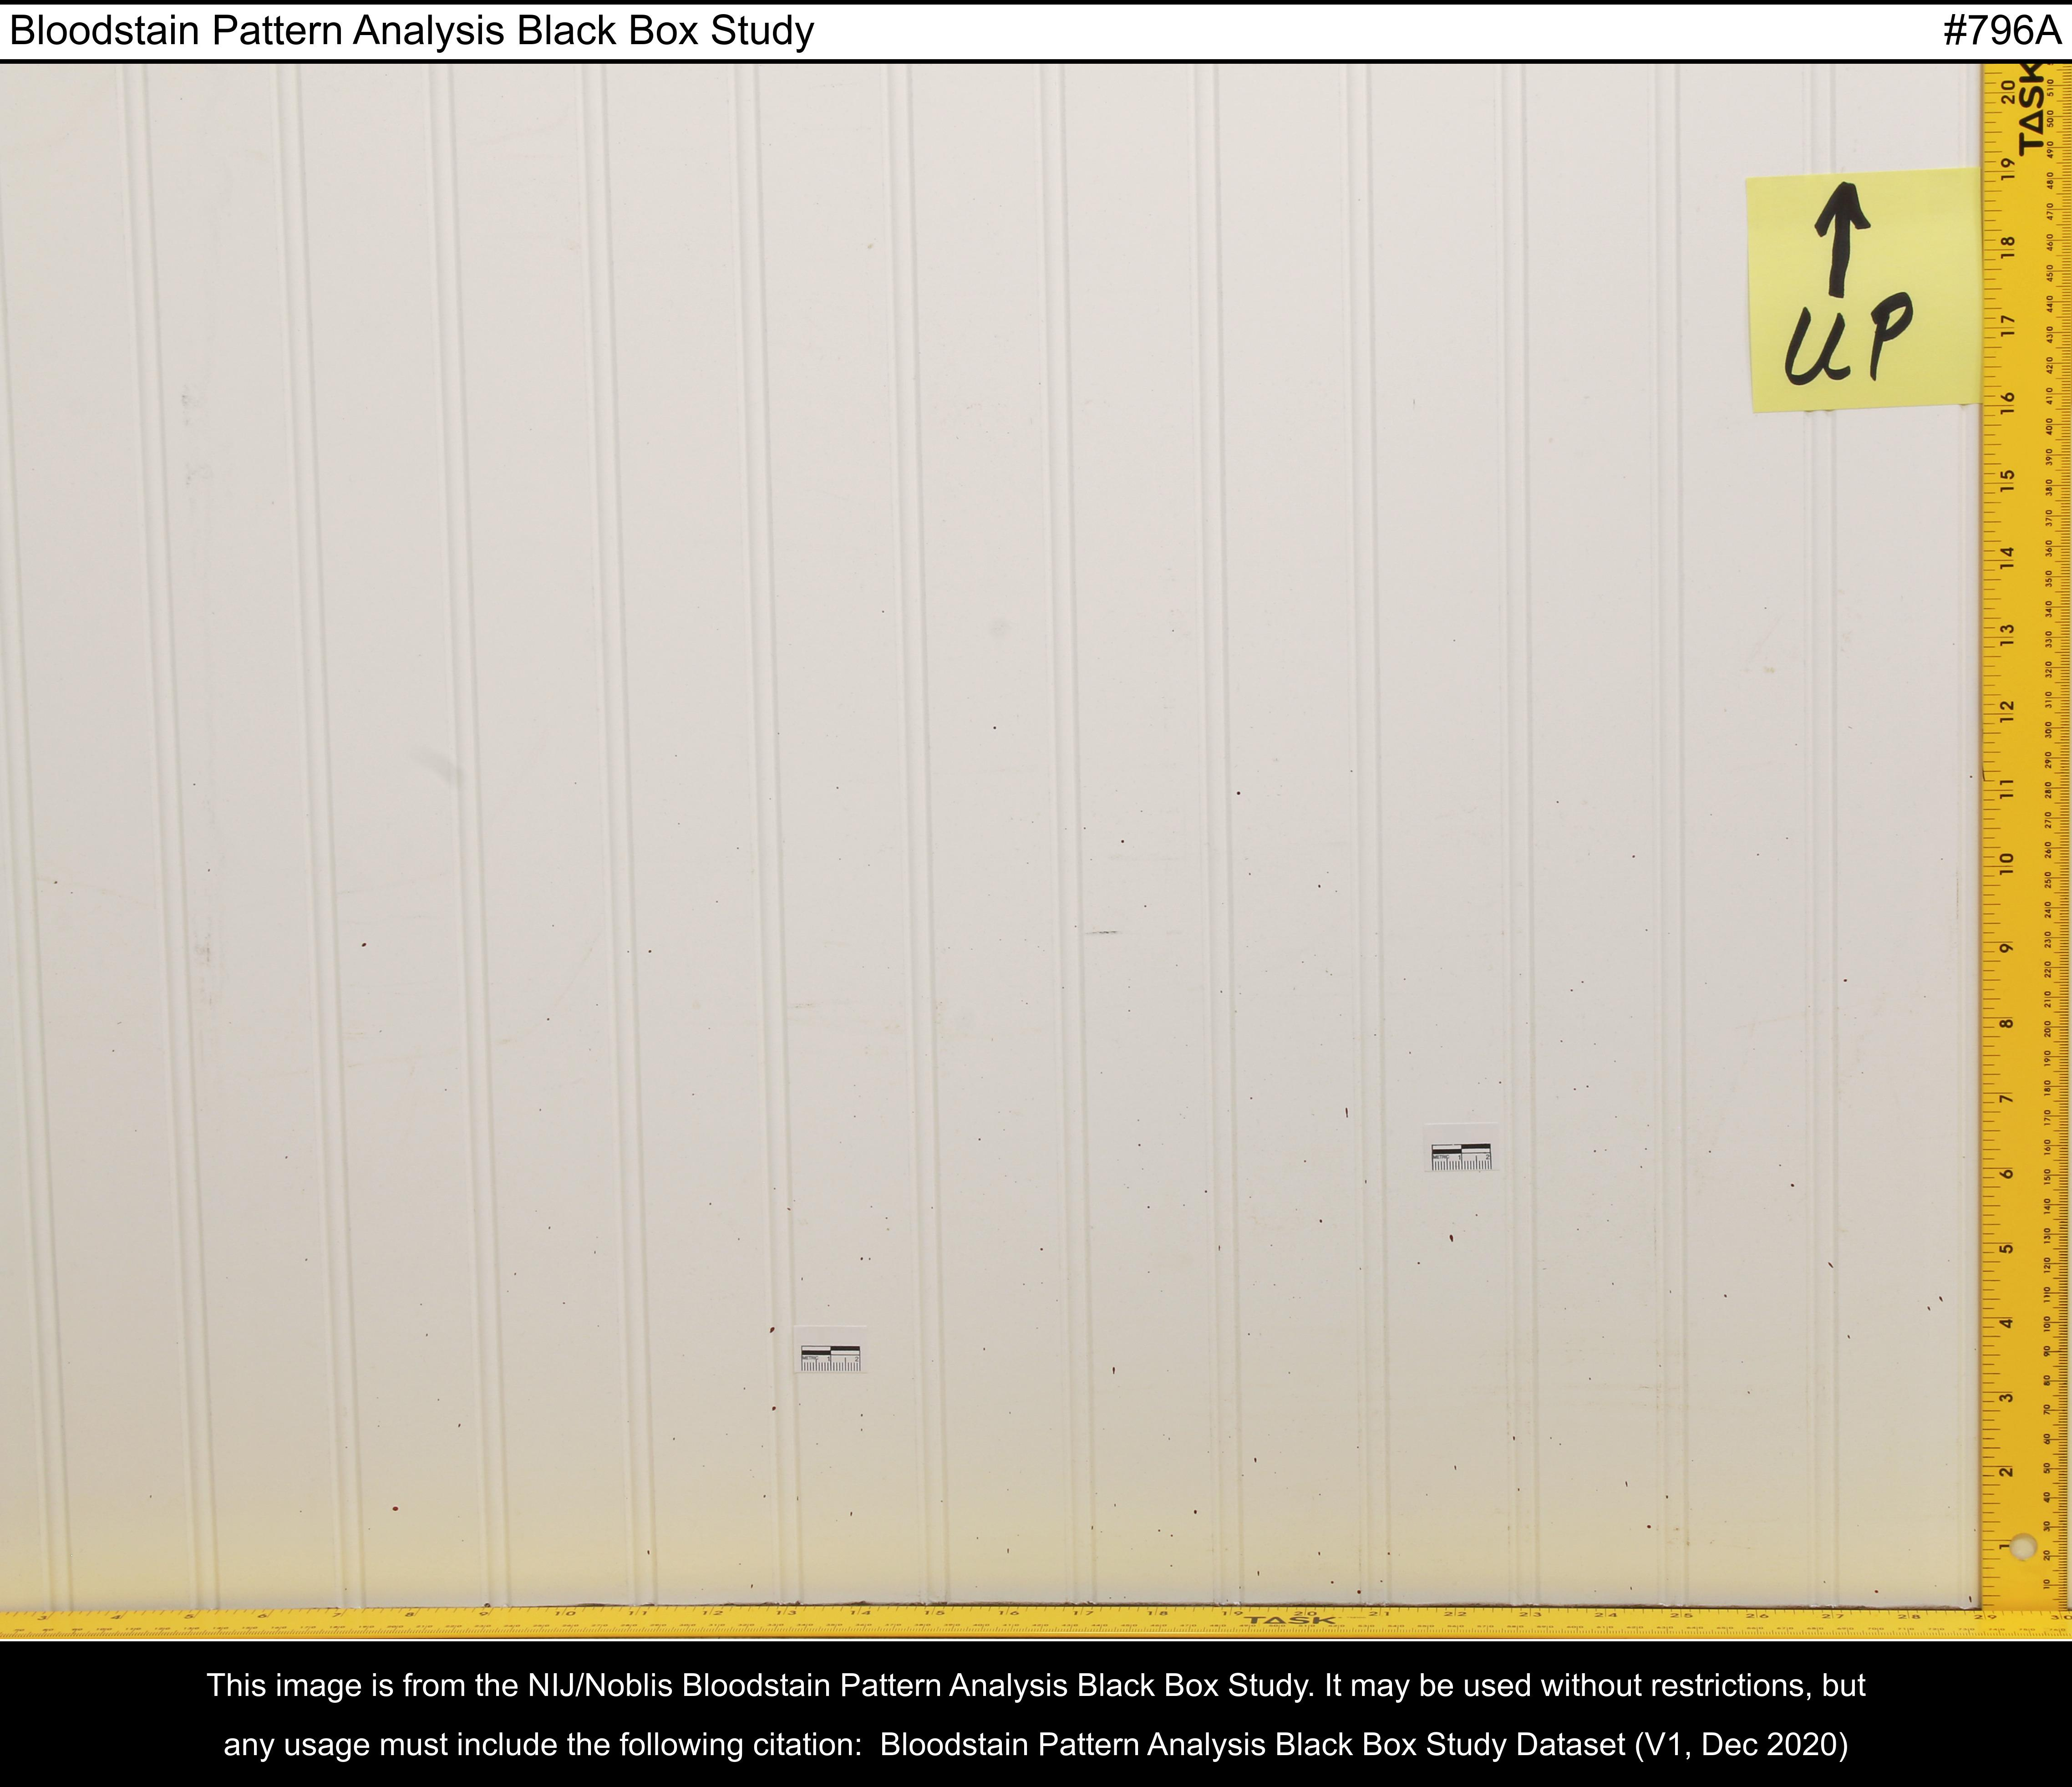Transfer: (735, 1294, 793, 1426)
